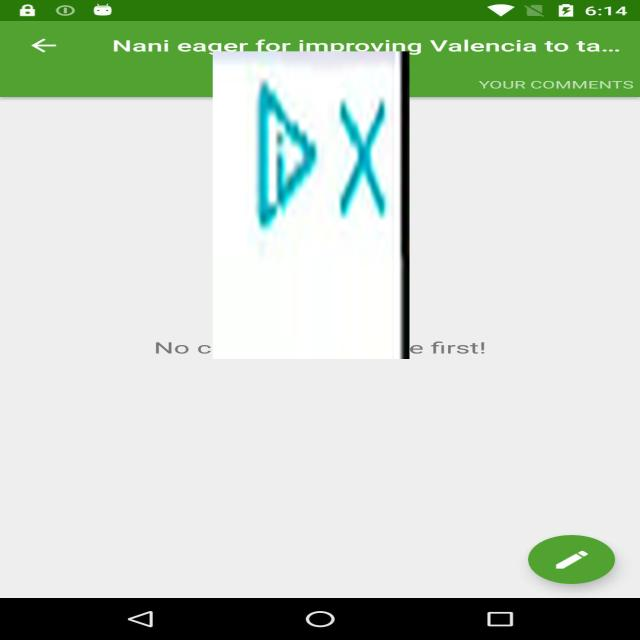sneaking: (213, 51, 409, 359)
